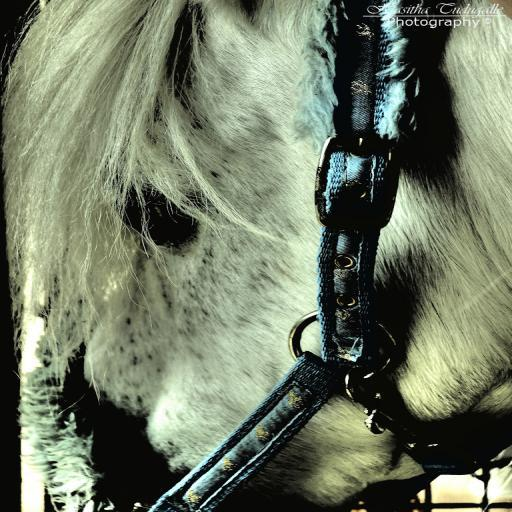Horse: (0, 0, 509, 510)
